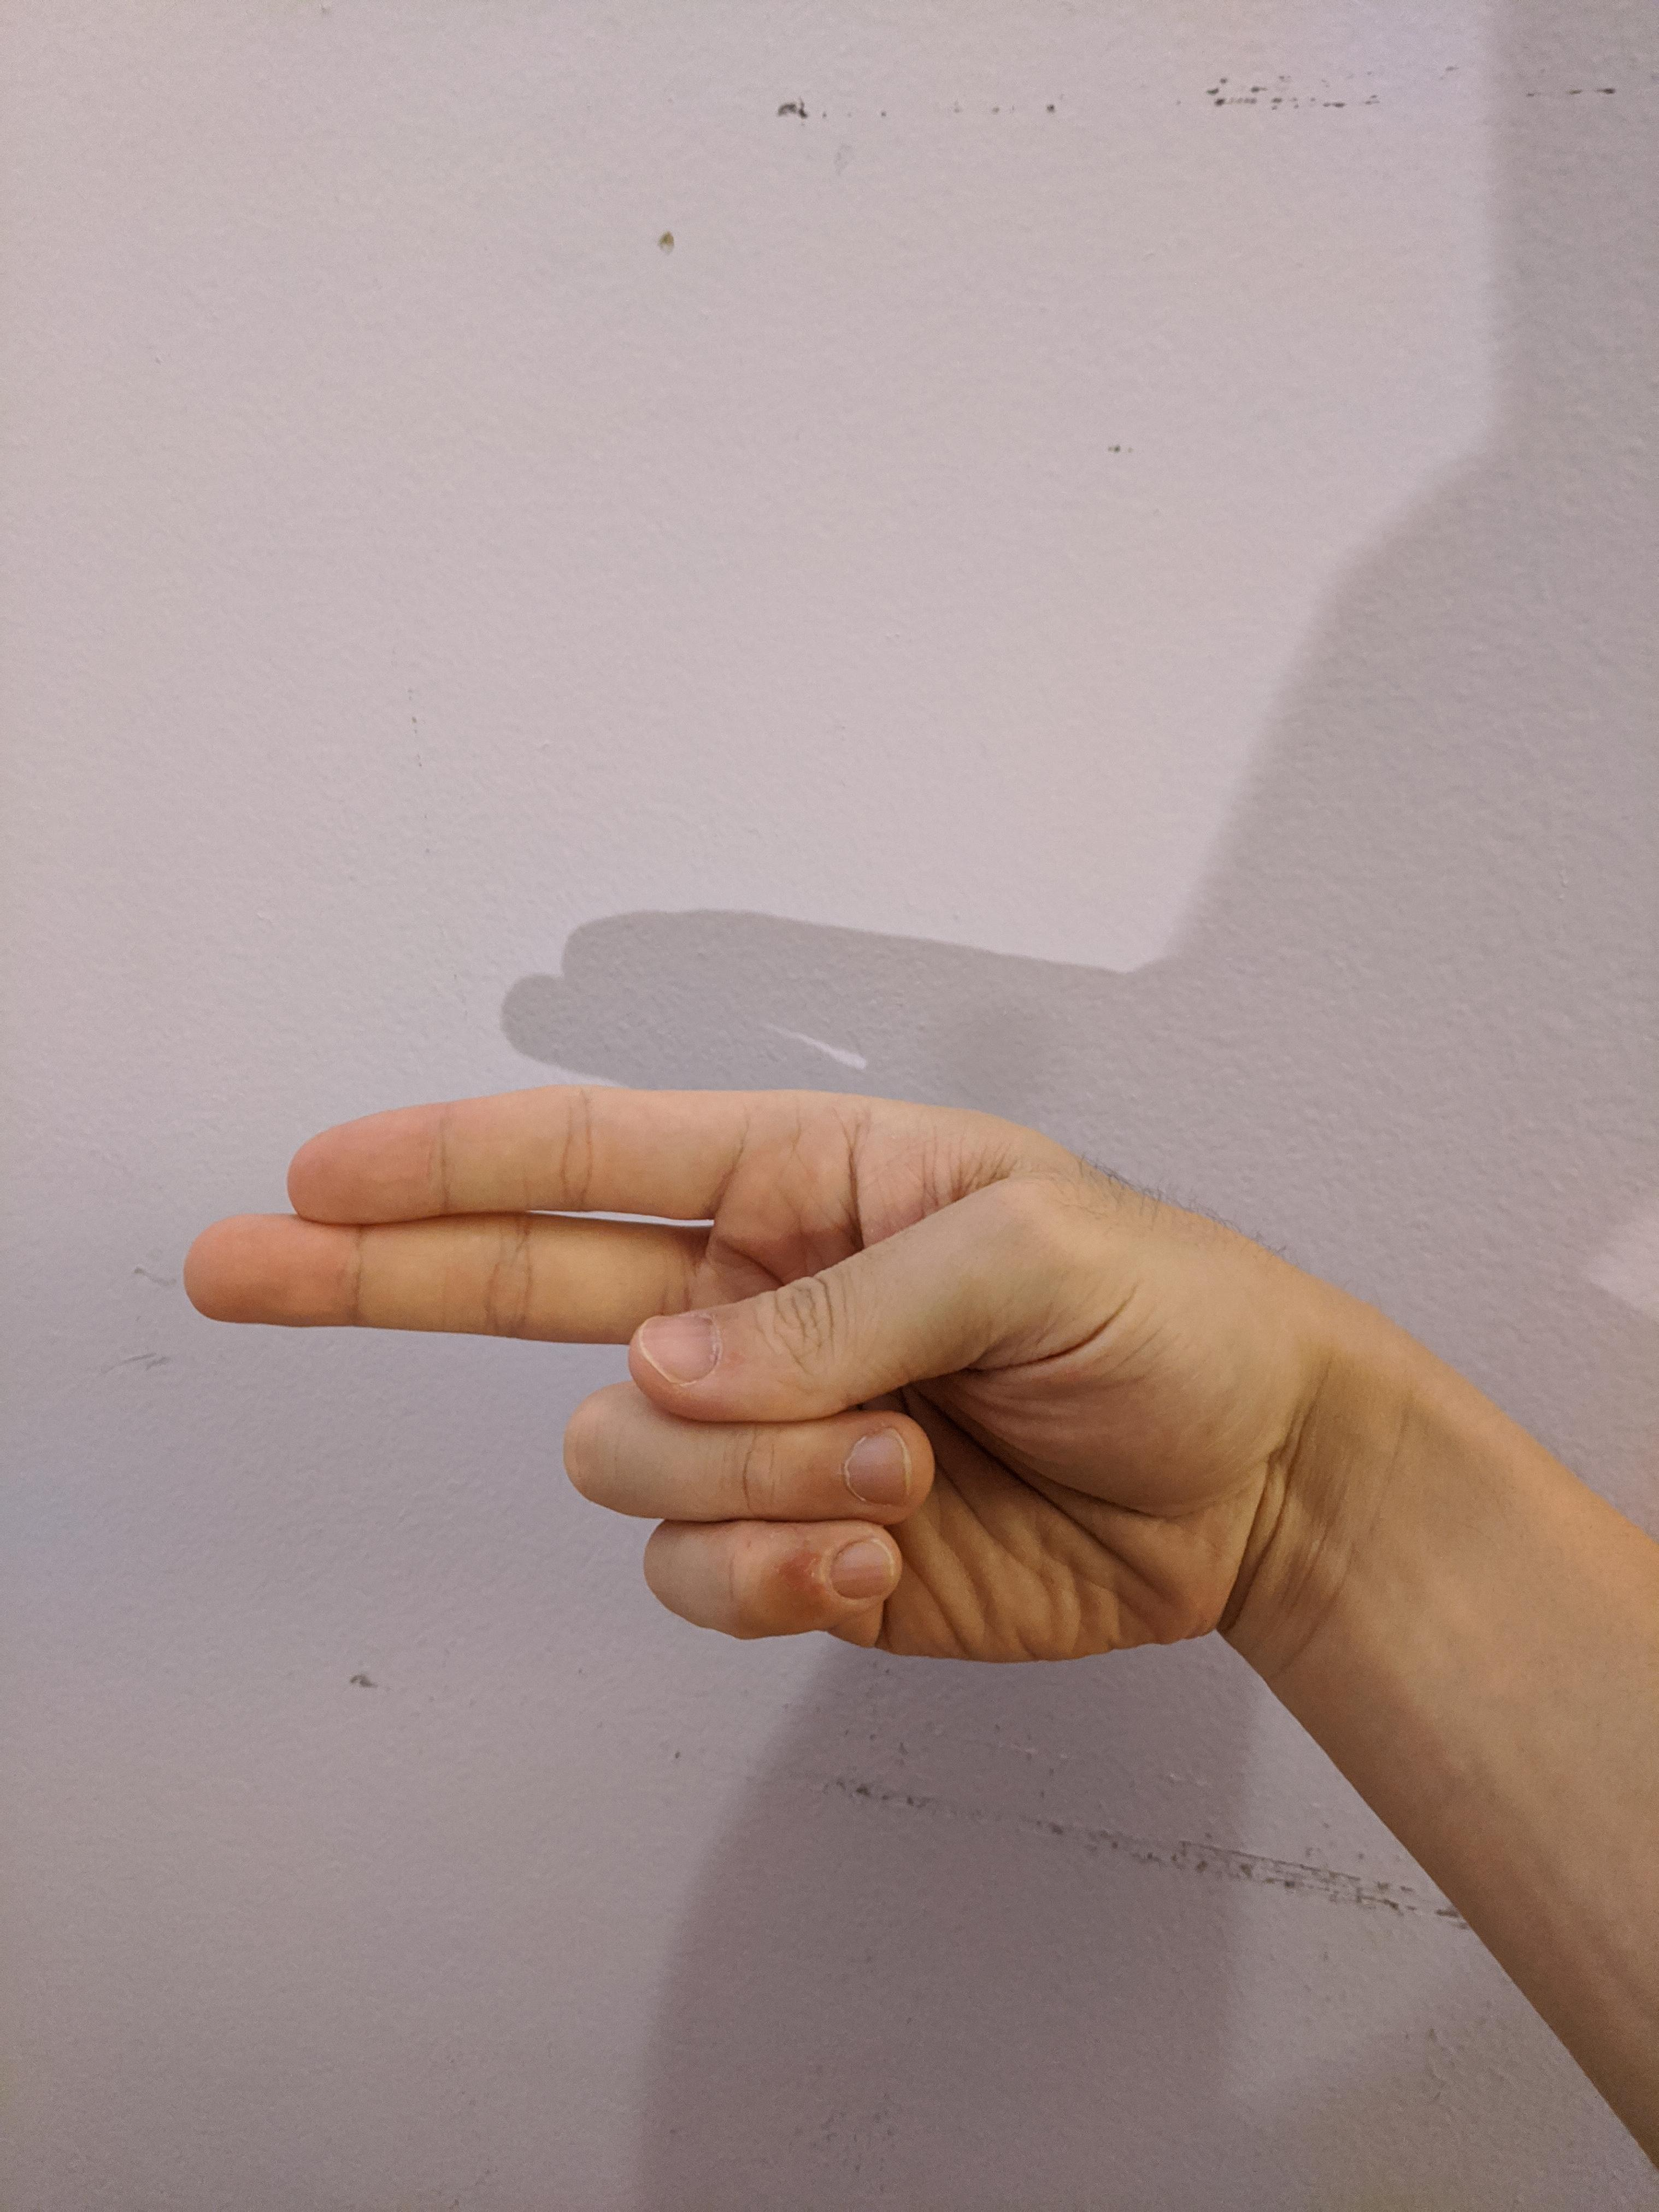H: (171, 1064, 1310, 1686)
